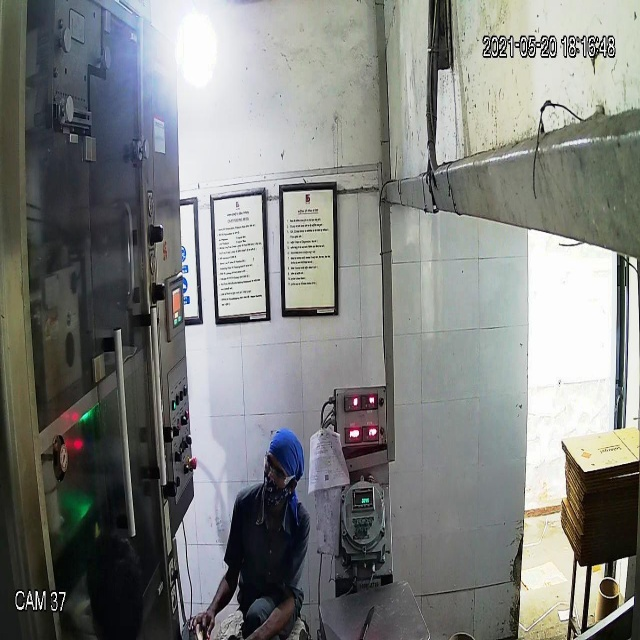Gafas: (261, 448, 300, 490)
